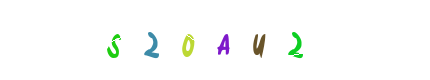0: (173, 0, 253, 80)
2: (160, 0, 240, 80), (219, 0, 299, 80)
A: (175, 0, 255, 80)
S: (112, 0, 192, 80)
U: (184, 0, 264, 80)
